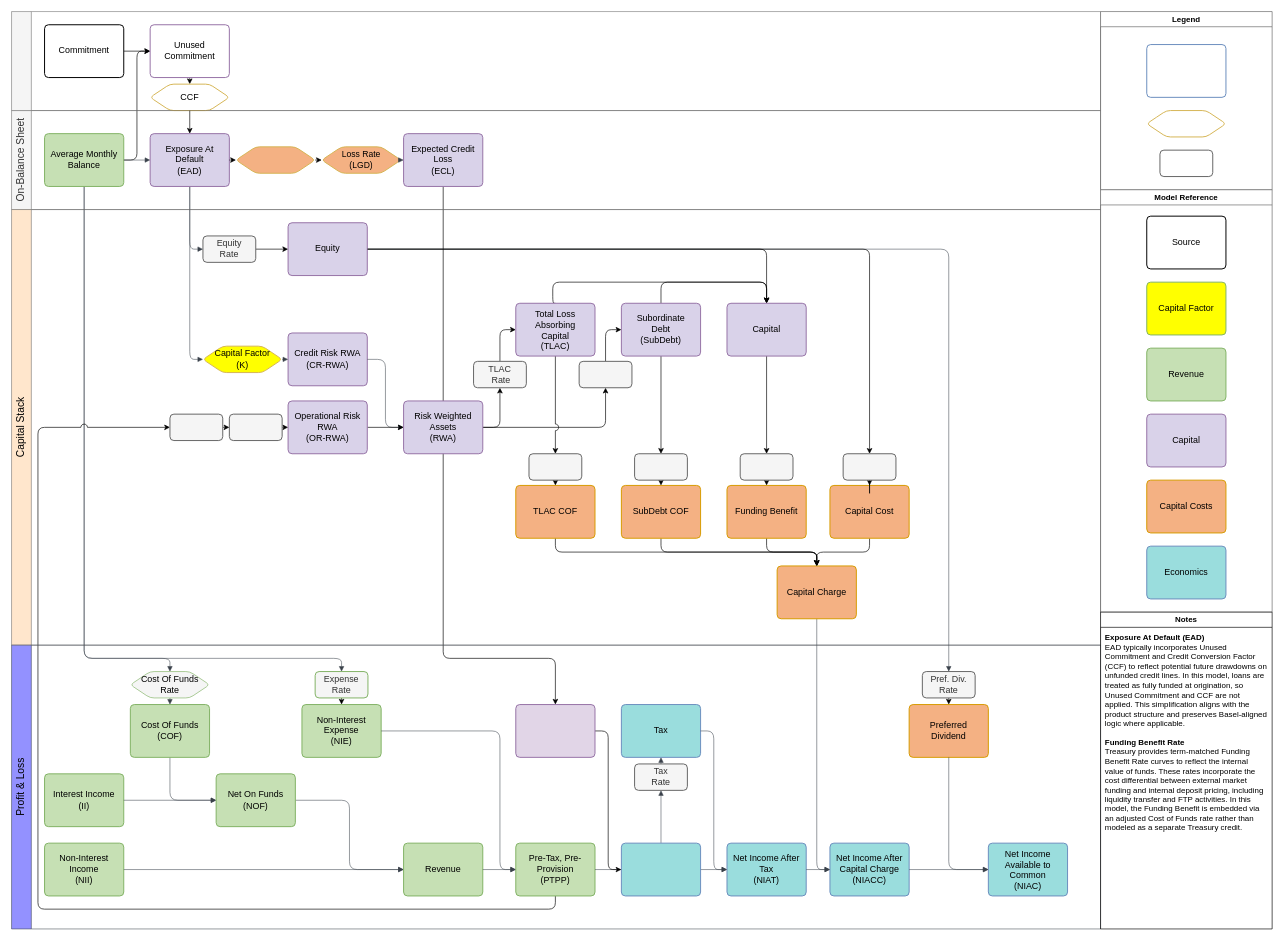
This 1284x941 diagram has some shape labels left out. The shapes that lost their labels are listed below. From the top down, each one's centre as x and y in pixels, then its label:
At (x=555, y=60): "Off-Balance Sheet".
At (x=1186, y=71): "Financial Metric".
At (x=1186, y=123): "Calculated Input".
At (x=275, y=159): "Default Rate (PD)".
At (x=1186, y=163): "Asserted Rate".
At (x=605, y=374): "SubDebt Rate".
At (x=196, y=427): "ILM".
At (x=255, y=427): "BIC".
At (x=555, y=466): "TLAC COF Rate".
At (x=661, y=466): "SubDebt COF Rate".
At (x=766, y=466): "Fund. Ben. Rate".
At (x=869, y=466): "Minimum ROE".
At (x=555, y=731): "Provision".
At (x=661, y=869): "Net Income Before Tax (NIBT )".
